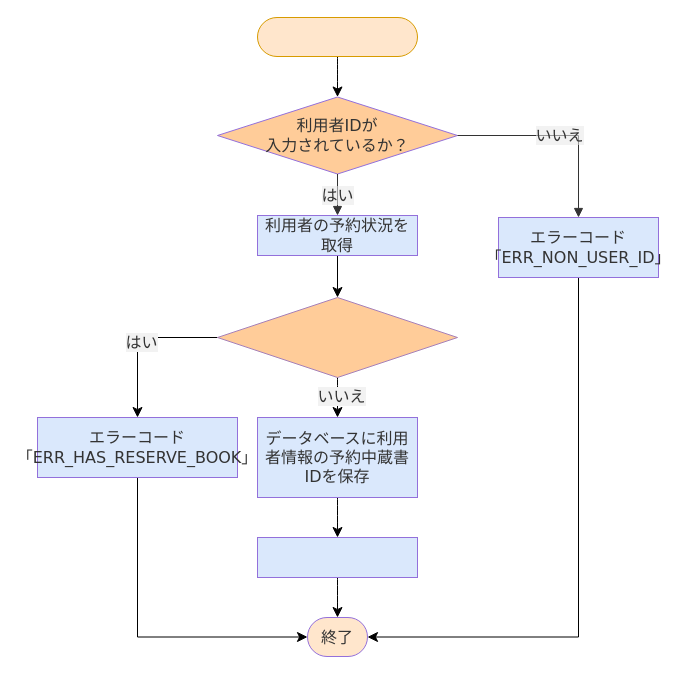
The diagram is 688 pixels wide and 674 high, and some of its shapes have lost their labels. Here are the shapes that lost their labels. From the top down, the centre of each, then its label:
[337,36]: 申請ボタン押下
[337,337]: 利用者に予約中の蔵書があるか？
[337,557]: データベースに予約情報を保存
